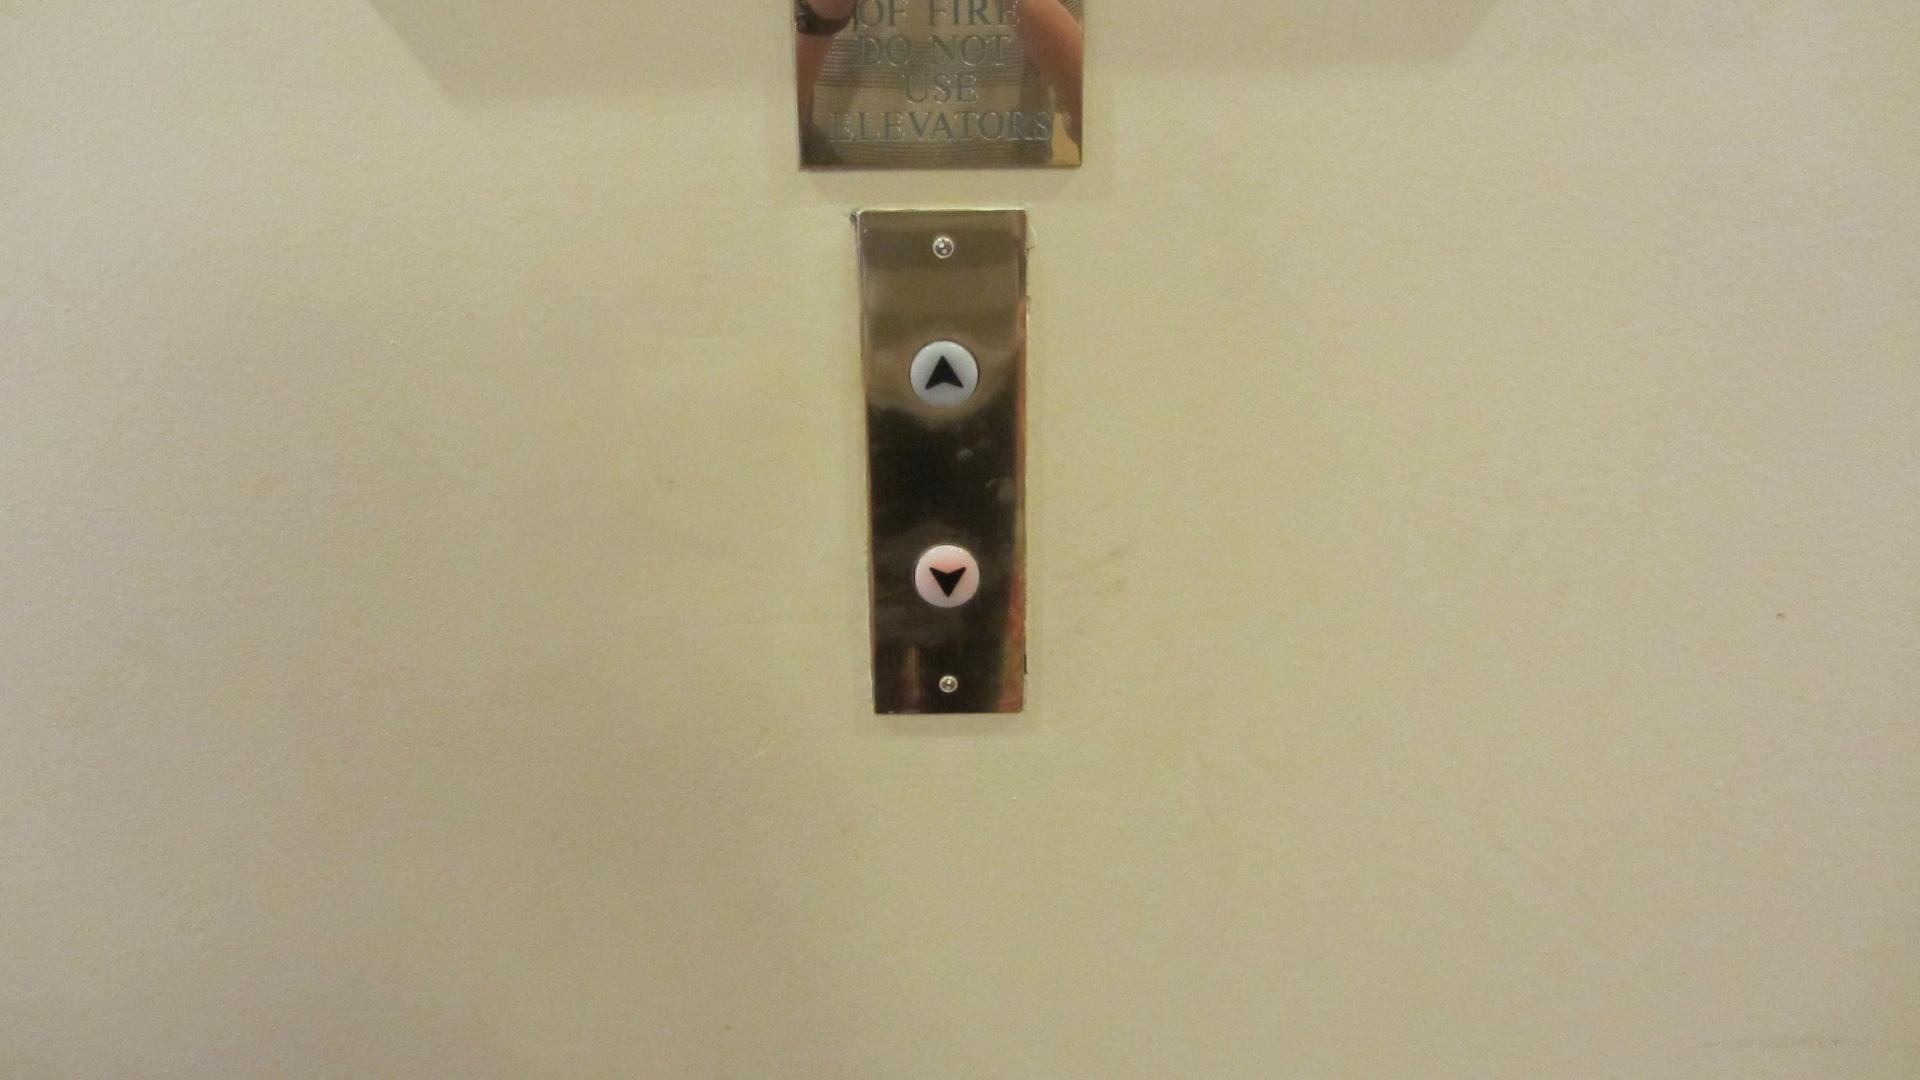down: (909, 537, 985, 615)
up: (909, 338, 982, 414)
